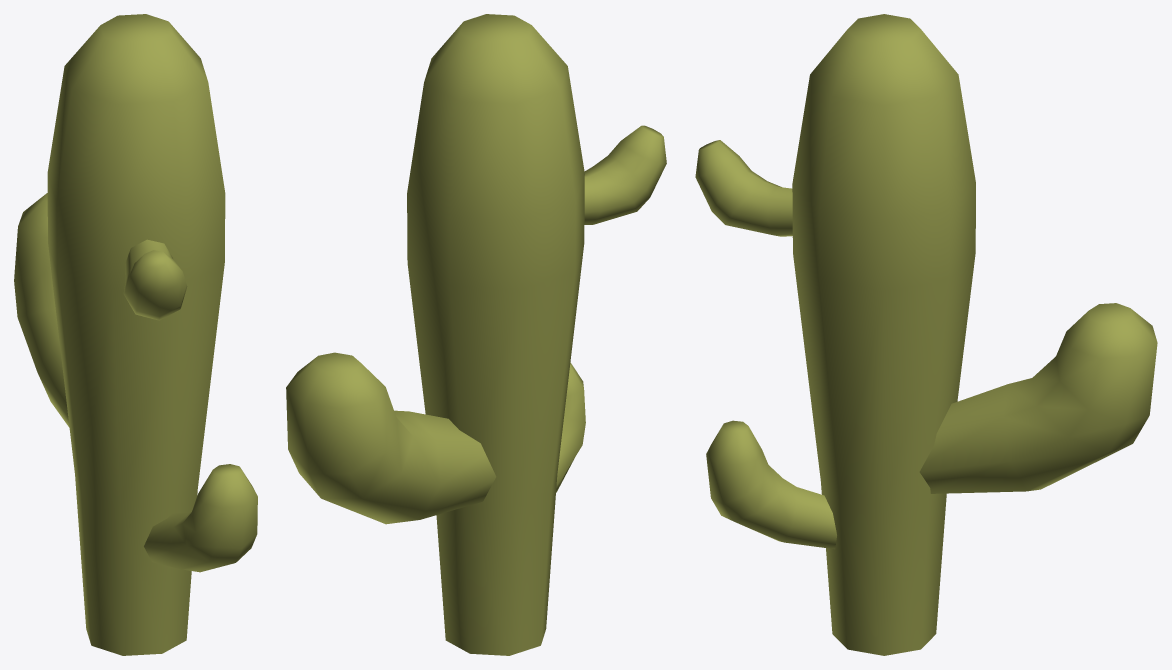
The model's file is fbx_cactus_2.fbx.
3 views of the same model, side by side, from view 1: azimuth 30°, elevation 25°; view 2: azimuth 150°, elevation 25°; view 3: azimuth 270°, elevation 25° (orthographic).
Parts seen in each view (by area): view 1: Cylinder.001; view 2: Cylinder.001; view 3: Cylinder.001.
Part boxes in pixels (x1,y1,x2,y2): Cylinder.001: [14, 14, 257, 655]; Cylinder.001: [286, 14, 666, 655]; Cylinder.001: [695, 14, 1157, 655].
Bounding box in the file's own units: 48.29 × 155 × 108.
